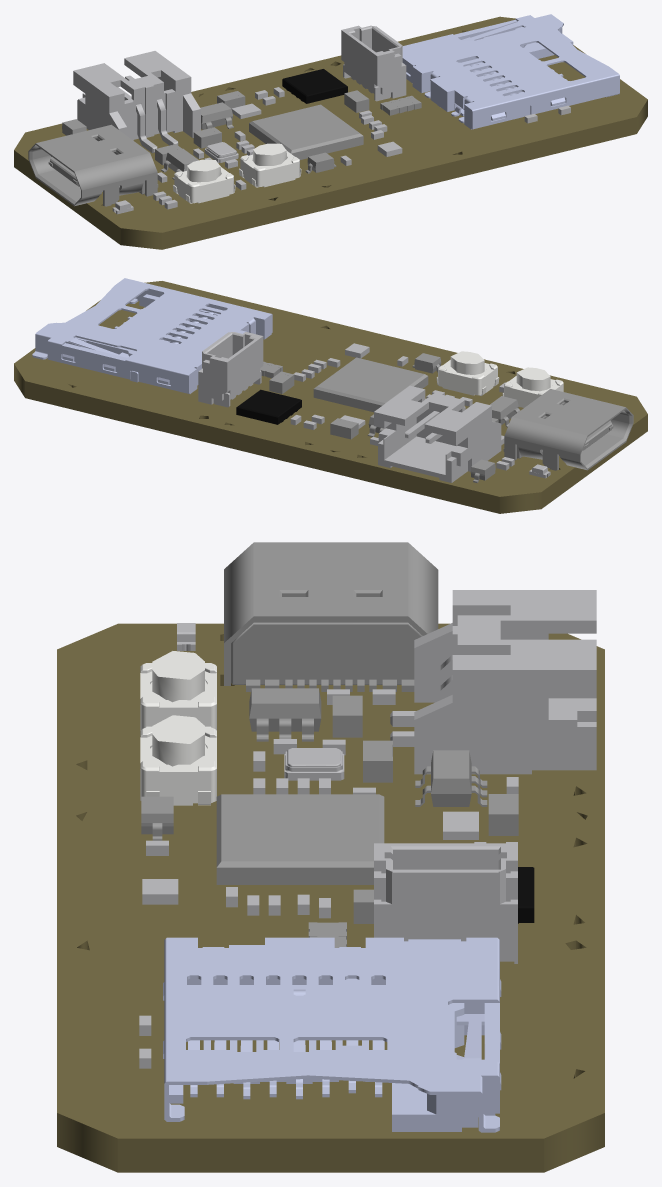
The model's file is ada-5980.glb.
3 views of the same model, one above another, from view 1: azimuth 30°, elevation 25°; view 2: azimuth 150°, elevation 25°; view 3: azimuth 270°, elevation 25° (orthographic). The views are drawn at different scales.
Visible parts, largest first — view 1: 0.16666666666666666_0.16666666666666666_0.08333333333333333_, 0.5833333333333334_0.6666666666666666_0.8333333333333334_0, 0.5833333333333334_0.5833333333333334_0.5833333333333334_0.8, 0.3333333333333333_0.3333333333333333_0.3333333333333333_0, 0.9166666666666666_0.9166666666666666_0.9166666666666666_0.8, 0_0_0_0; view 2: 0.16666666666666666_0.16666666666666666_0.08333333333333333_, 0.5833333333333334_0.6666666666666666_0.8333333333333334_0, 0.5833333333333334_0.5833333333333334_0.5833333333333334_0.8, 0.3333333333333333_0.3333333333333333_0.3333333333333333_0, 0.9166666666666666_0.9166666666666666_0.9166666666666666_0.8, 0_0_0_0; view 3: 0.16666666666666666_0.16666666666666666_0.08333333333333333_, 0.3333333333333333_0.3333333333333333_0.3333333333333333_0, 0.5833333333333334_0.5833333333333334_0.5833333333333334_0.8, 0.5833333333333334_0.6666666666666666_0.8333333333333334_0, 0.9166666666666666_0.9166666666666666_0.9166666666666666_0.8, 0_0_0_0.
Part boxes in pixels (<box>): 0.16666666666666666_0.16666666666666666_0.08333333333333333_: <box>14,16,647,249</box>; 0.5833333333333334_0.6666666666666666_0.8333333333333334_0: <box>402,14,619,129</box>; 0.5833333333333334_0.5833333333333334_0.5833333333333334_0.8: <box>50,25,570,214</box>; 0.3333333333333333_0.3333333333333333_0.3333333333333333_0: <box>28,90,421,206</box>; 0.9166666666666666_0.9166666666666666_0.9166666666666666_0.8: <box>173,143,301,203</box>; 0_0_0_0: <box>282,69,347,103</box>; 0.16666666666666666_0.16666666666666666_0.08333333333333333_: <box>14,281,647,513</box>; 0.5833333333333334_0.6666666666666666_0.8333333333333334_0: <box>32,278,272,393</box>; 0.5833333333333334_0.5833333333333334_0.5833333333333334_0.8: <box>198,332,611,482</box>; 0.3333333333333333_0.3333333333333333_0.3333333333333333_0: <box>260,353,633,482</box>; 0.9166666666666666_0.9166666666666666_0.9166666666666666_0.8: <box>436,351,563,407</box>; 0_0_0_0: <box>236,389,301,424</box>; 0.16666666666666666_0.16666666666666666_0.08333333333333333_: <box>57,623,604,1172</box>; 0.3333333333333333_0.3333333333333333_0.3333333333333333_0: <box>141,542,518,947</box>; 0.5833333333333334_0.5833333333333334_0.5833333333333334_0.8: <box>139,590,596,1068</box>; 0.5833333333333334_0.6666666666666666_0.8333333333333334_0: <box>163,937,501,1132</box>; 0.9166666666666666_0.9166666666666666_0.9166666666666666_0.8: <box>140,651,216,805</box>; 0_0_0_0: <box>518,867,534,923</box>.
Bounding box in the file's own units: 5.2 × 0.637 × 2.29.
